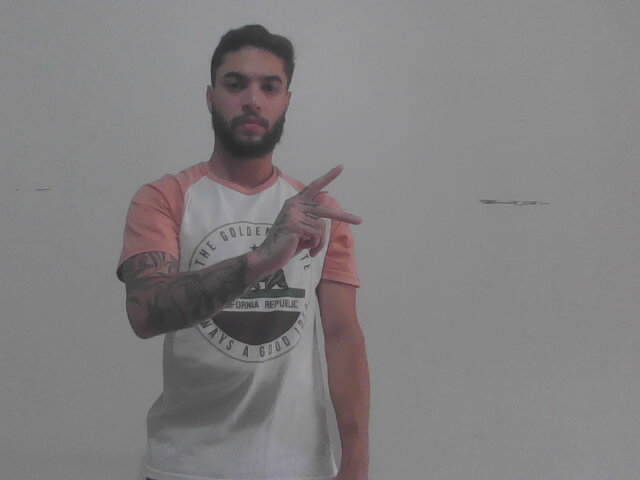k: (262, 161, 366, 284)
